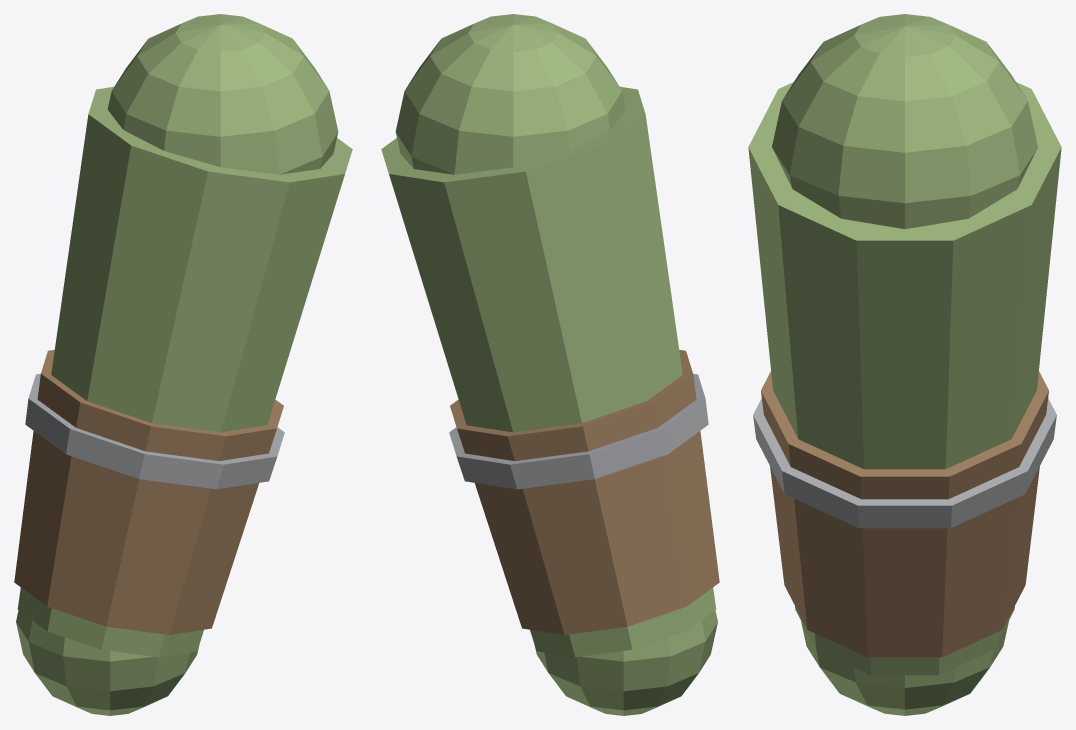
File: SM_Orc_Forearm_R.fbx
3 renders of one model, left to right at view 1: azimuth 30°, elevation 25°; view 2: azimuth 150°, elevation 25°; view 3: azimuth 270°, elevation 25°, orthographic. The views are drawn at different scales.
Visible parts, largest first — view 1: SM_Orc_Forearm_R; view 2: SM_Orc_Forearm_R; view 3: SM_Orc_Forearm_R.
Part boxes in pixels (x1,y1,x2,y2): SM_Orc_Forearm_R: [14, 14, 352, 715]; SM_Orc_Forearm_R: [381, 14, 719, 715]; SM_Orc_Forearm_R: [748, 14, 1061, 715].
Bounding box in the file's own units: 0.2522 × 0.5217 × 0.2.
